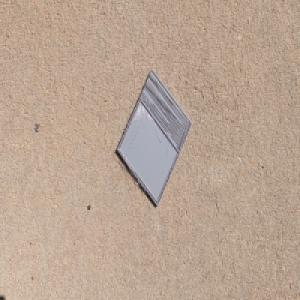PlasticPart: (115, 67, 193, 208)
